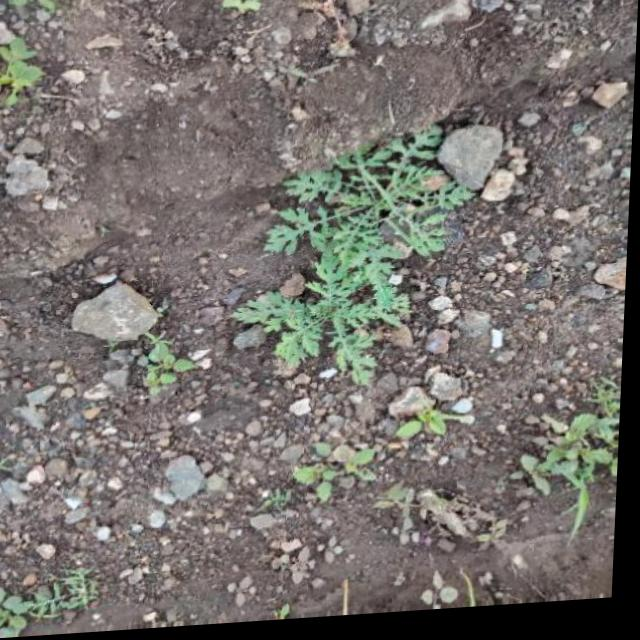weed: (214, 138, 515, 397), (522, 380, 625, 557), (291, 441, 389, 521), (141, 333, 202, 406), (0, 31, 51, 118)
